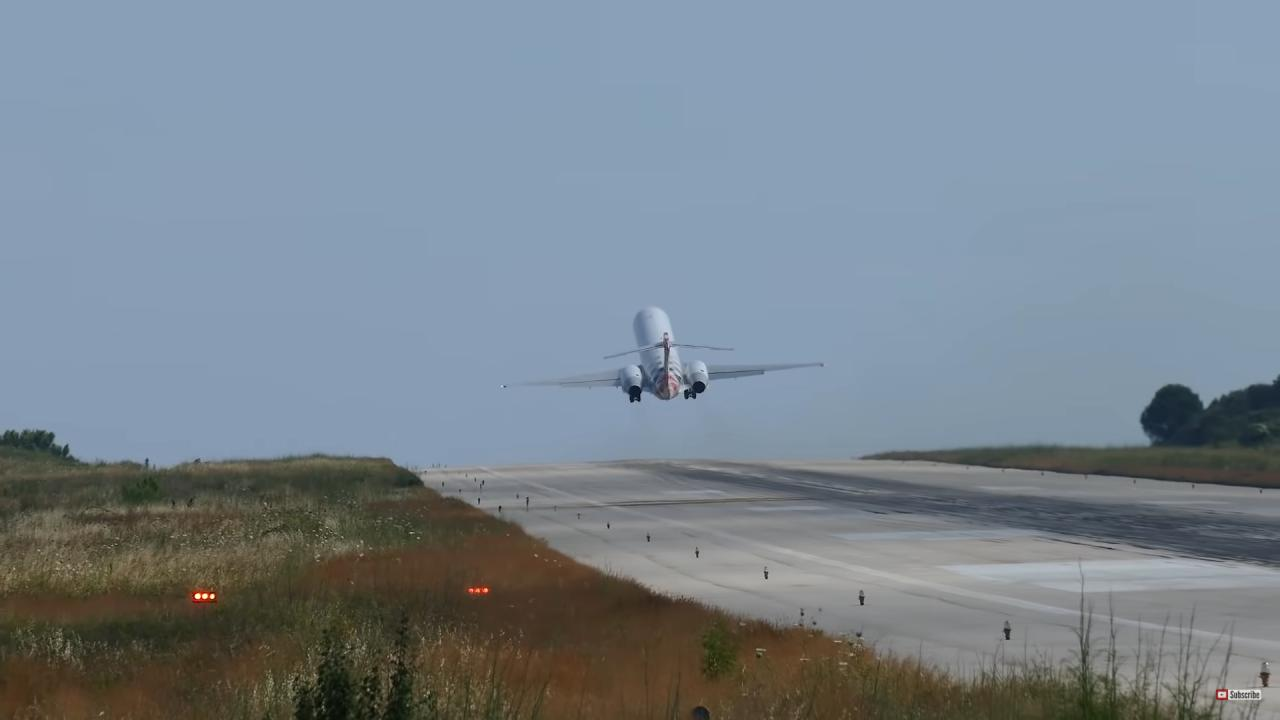Airplane: (490, 291, 839, 416)
